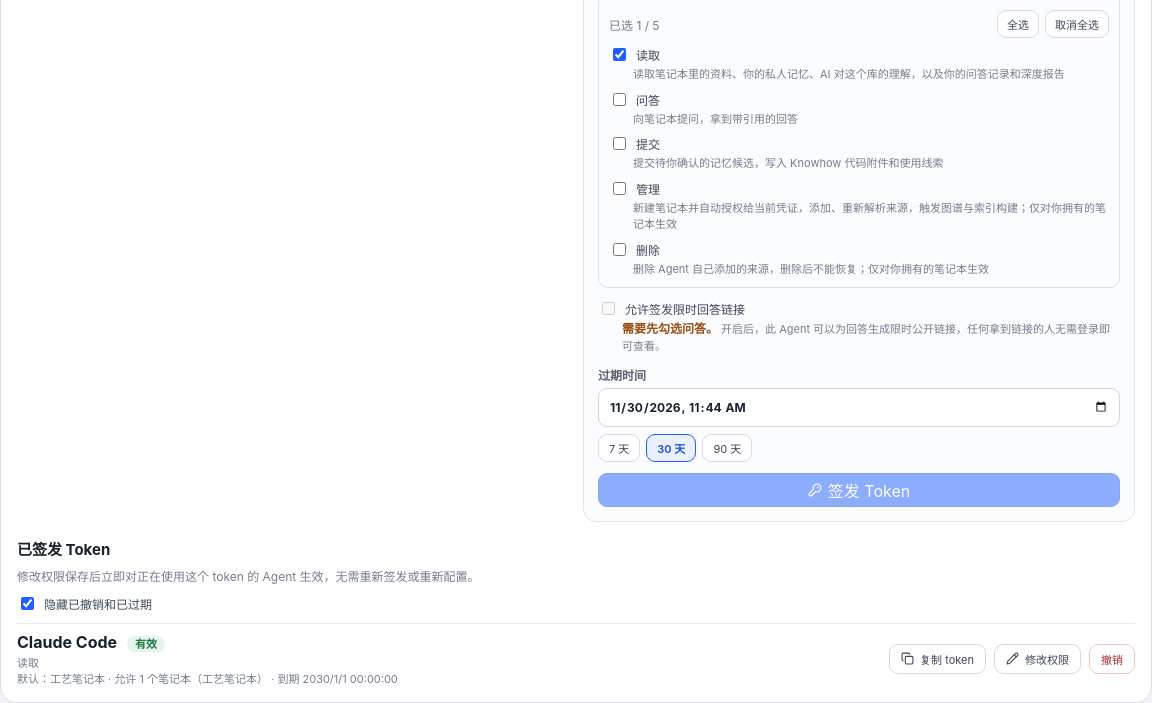
it: 保存失败时错误落在编辑行内,编辑内容保留以便重试
(page scrolled)
Expected: the text "Claude Code" is shown, left=17, top=632, right=117, bottom=652
Click the button "修改权限": {"x": 1038, "y": 658} left=994, top=644, right=1081, bottom=674
(page scrolled)
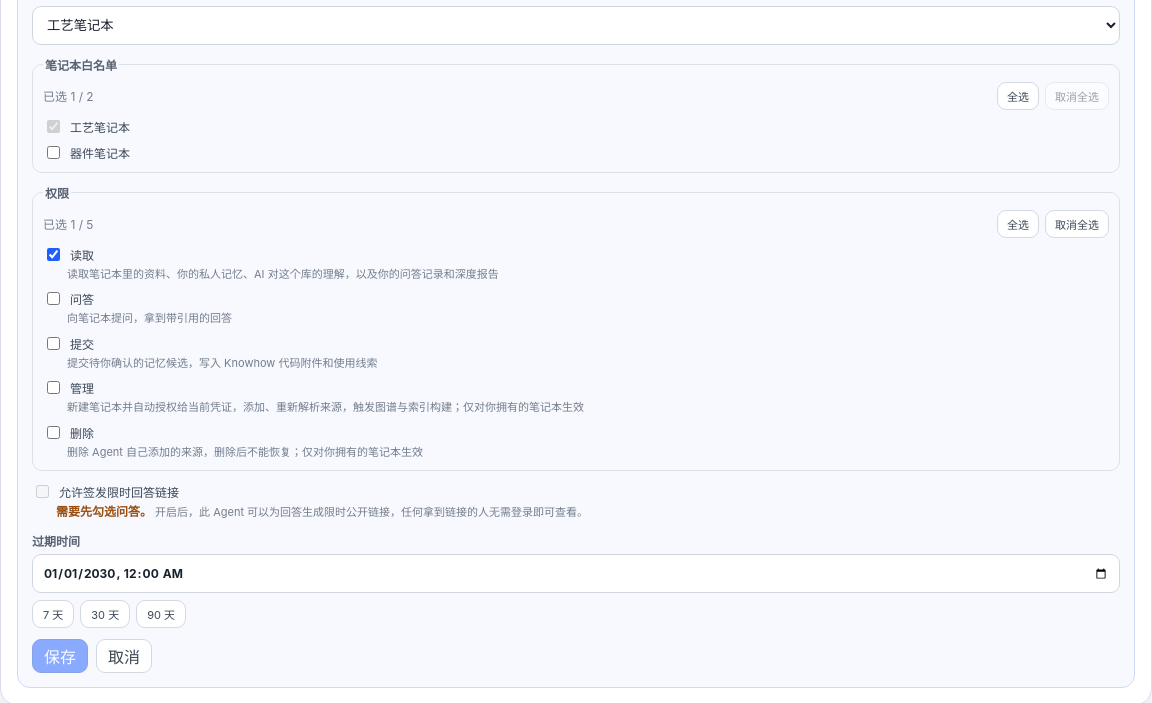
Click the checkbox labelled "提交": {"x": 54, "y": 343} left=47, top=336, right=60, bottom=350
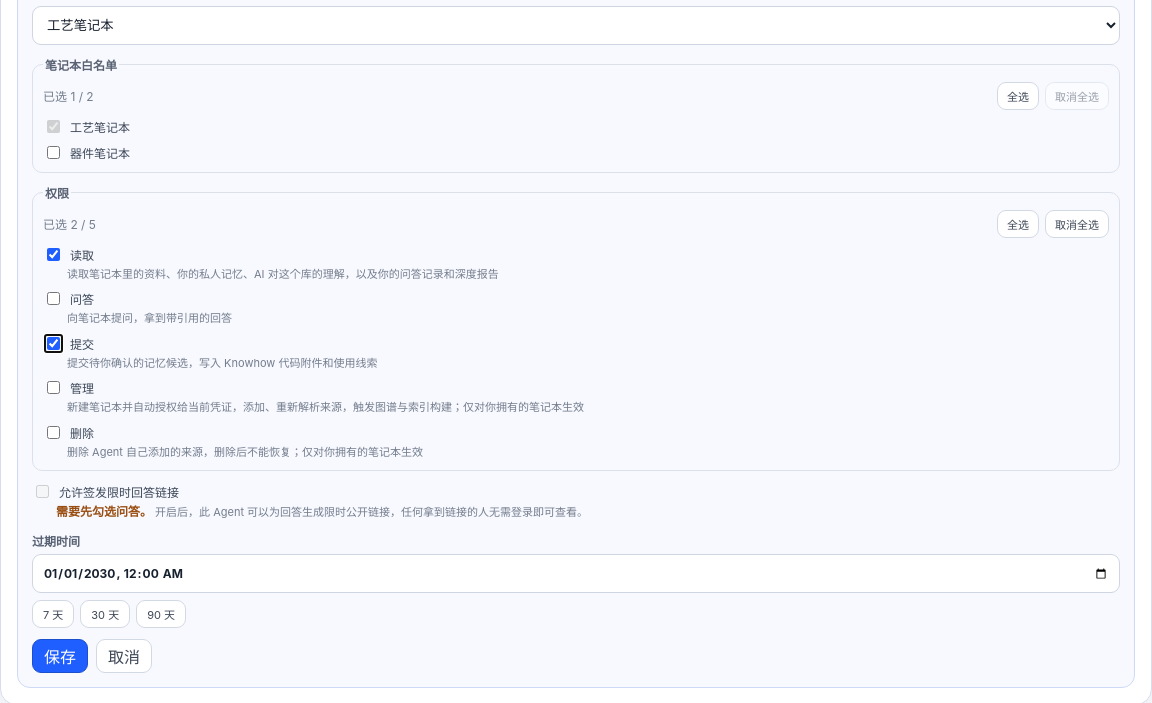
Click the button "保存": {"x": 60, "y": 656} left=32, top=639, right=88, bottom=673
(page scrolled)
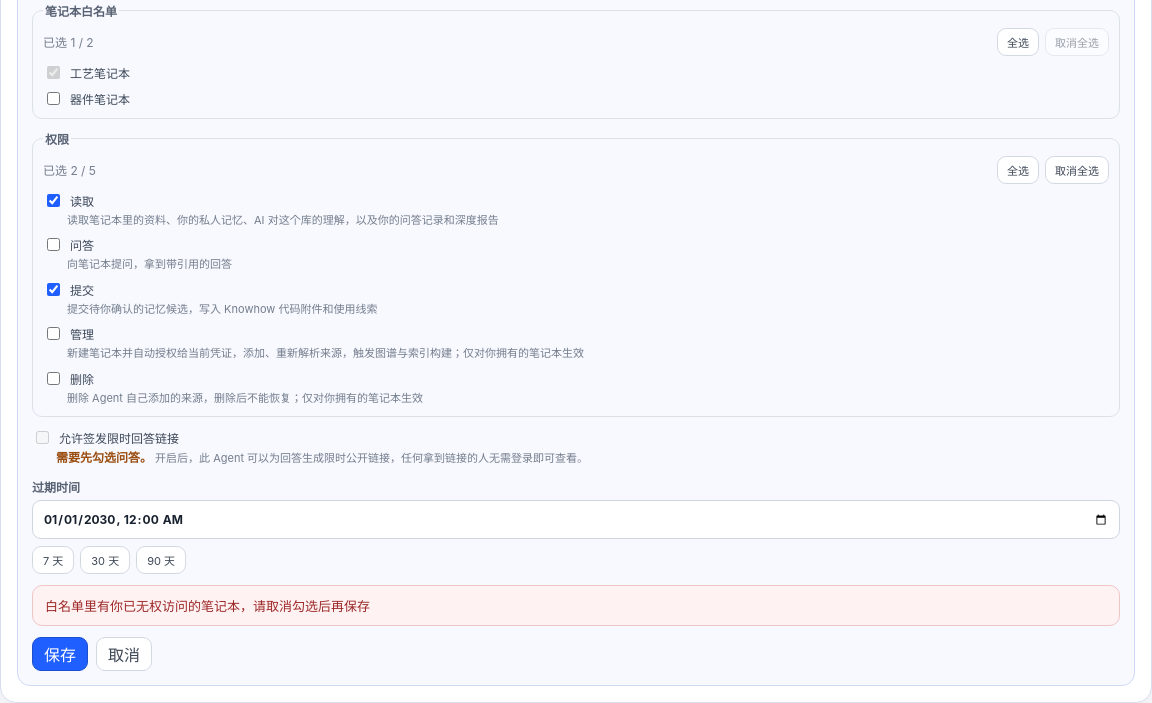
Expected: the checkbox labelled "提交" is checked, left=47, top=282, right=60, bottom=296
Expected: the button "保存" is enabled, left=32, top=637, right=88, bottom=671
Expected: the message shows "白名单里有你已无权访问的笔记本", left=45, top=598, right=370, bottom=614
